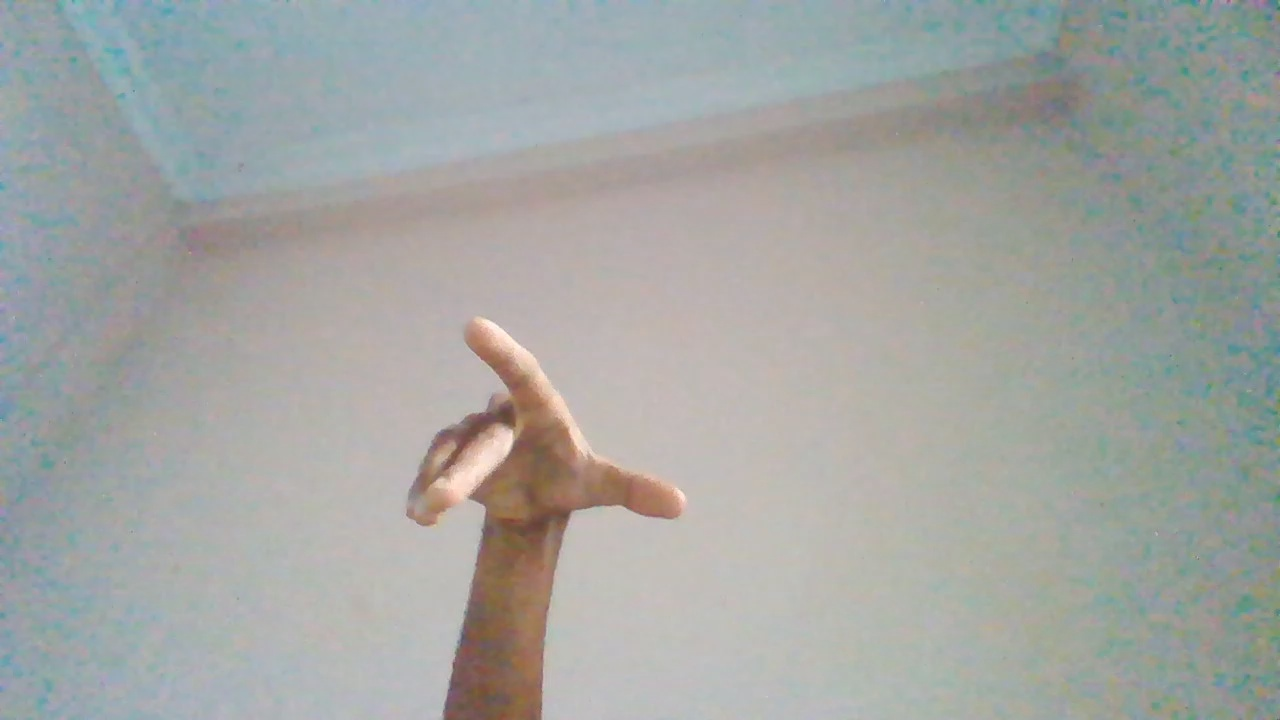ke: (407, 320, 690, 702)
